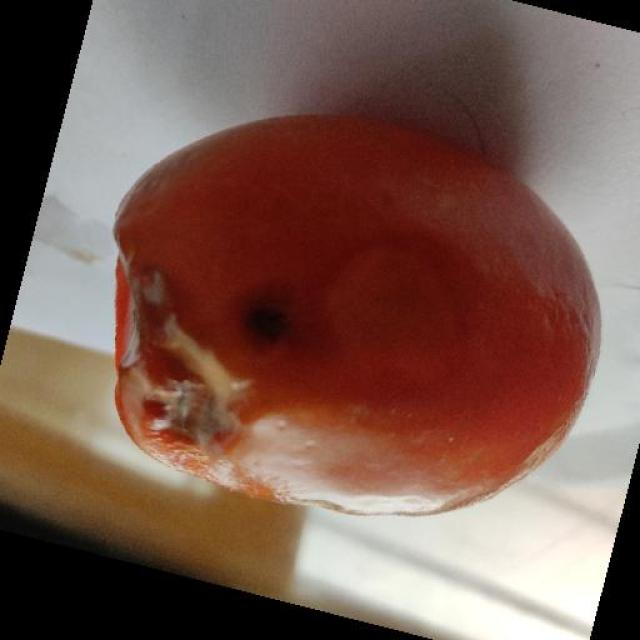Stale_tomato: (102, 161, 588, 532)
